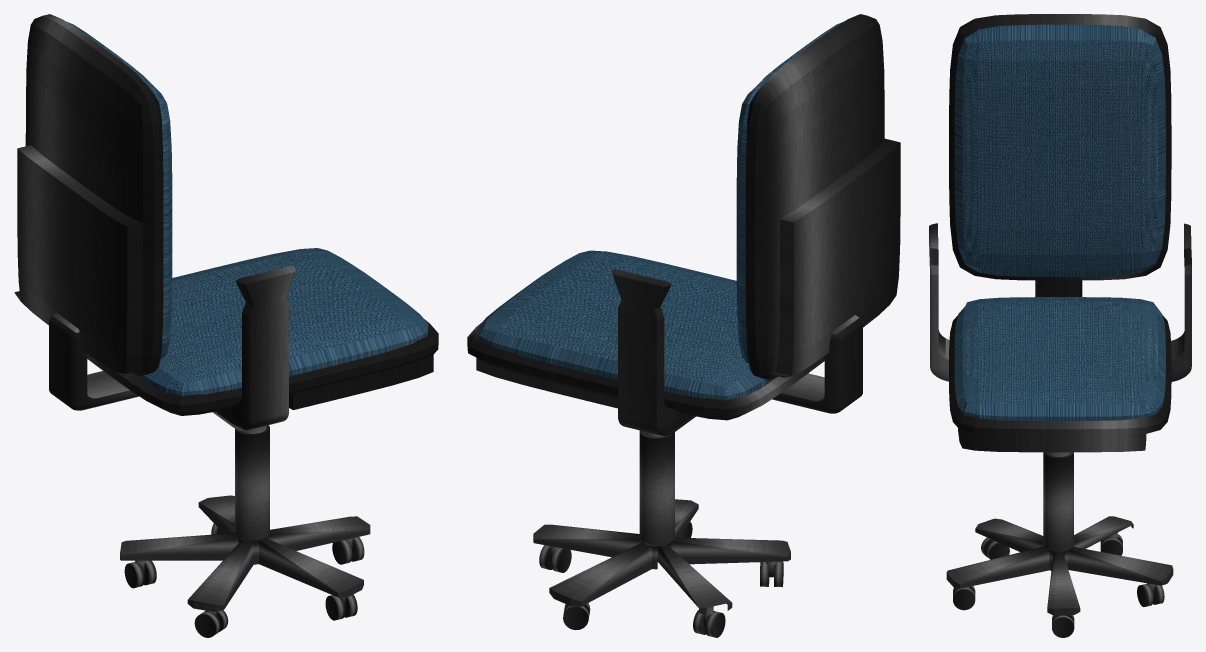
Rendered from office chair.fbx.
3 renders of one model, left to right at view 1: azimuth 30°, elevation 25°; view 2: azimuth 150°, elevation 25°; view 3: azimuth 270°, elevation 25°, orthographic. The views are drawn at different scales.
Visible parts, largest first — view 1: Plane.002, Plane.001, Cylinder.003, Plane, Cube, Cube.001, Cylinder.001, Plane.003; view 2: Plane.002, Plane.001, Cylinder.003, Cube, Plane, Cube.001, Cylinder.001, Plane.003; view 3: Plane.003, Plane.001, Cylinder.003, Plane, Plane.002, Cube, Cylinder.001, Cube.001, Cylinder.018, Cylinder.009.
Boxes of the visible parts, box(x1,y1,x2,y2) form: Plane.002: box(14, 14, 163, 376); Plane.001: box(132, 248, 428, 395); Cylinder.003: box(120, 495, 370, 611); Plane: box(87, 319, 438, 415); Cube: box(212, 266, 295, 430); Cube.001: box(49, 313, 139, 410); Cylinder.001: box(235, 425, 269, 540); Plane.003: box(66, 21, 172, 359); Plane.002: box(745, 14, 900, 380); Plane.001: box(478, 250, 777, 400); Cylinder.003: box(533, 499, 790, 614); Cube: box(612, 269, 695, 435); Plane: box(467, 322, 824, 420); Cube.001: box(772, 315, 862, 413); Cylinder.001: box(639, 430, 674, 544); Plane.003: box(736, 22, 842, 363); Plane.003: box(954, 24, 1165, 276); Plane.001: box(954, 297, 1165, 420); Cylinder.003: box(946, 516, 1173, 615); Plane: box(949, 315, 1171, 452); Plane.002: box(949, 14, 1171, 280); Cube: box(929, 223, 1191, 381); Cylinder.001: box(1043, 452, 1073, 550); Cube.001: box(1035, 280, 1082, 296); Cylinder.018: box(1052, 615, 1074, 637); Cylinder.009: box(953, 587, 975, 610).
Size of the model in its own units: 1456 by 2401 by 1121.
Materials: 4 (4 with a texture image).
